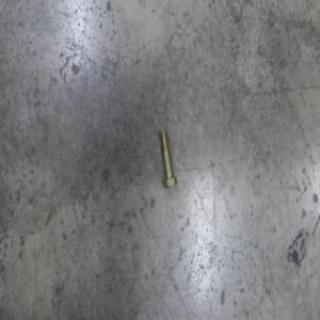Bolttrack_idkeyframe: (159, 128, 177, 190)
